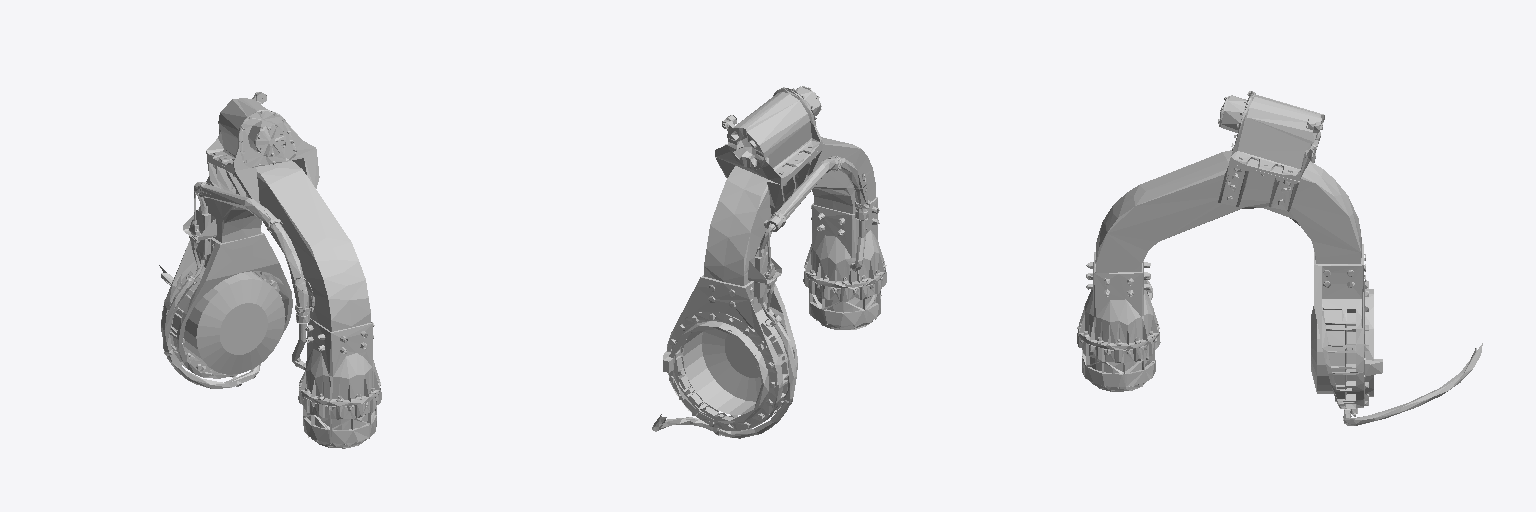
File: Steer_LeftFront.obj
3 views of the same model, side by side, from view 1: azimuth 30°, elevation 25°; view 2: azimuth 150°, elevation 25°; view 3: azimuth 270°, elevation 25° (orthographic).
Parts seen in each view (by area): view 1: Steer_LeftFront.obj; view 2: Steer_LeftFront.obj; view 3: Steer_LeftFront.obj.
Boxes of the visible parts, x1,y1,x2,y2 form: Steer_LeftFront.obj: [159, 92, 381, 448]; Steer_LeftFront.obj: [652, 86, 886, 438]; Steer_LeftFront.obj: [1077, 91, 1482, 425].
Bounding box in the file's own units: 0.2214 × 0.5578 × 0.6462.